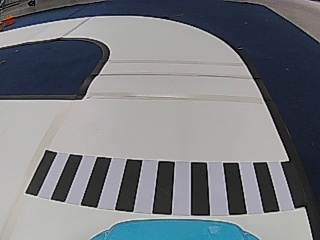CrossWalk: (16, 150, 307, 212)
